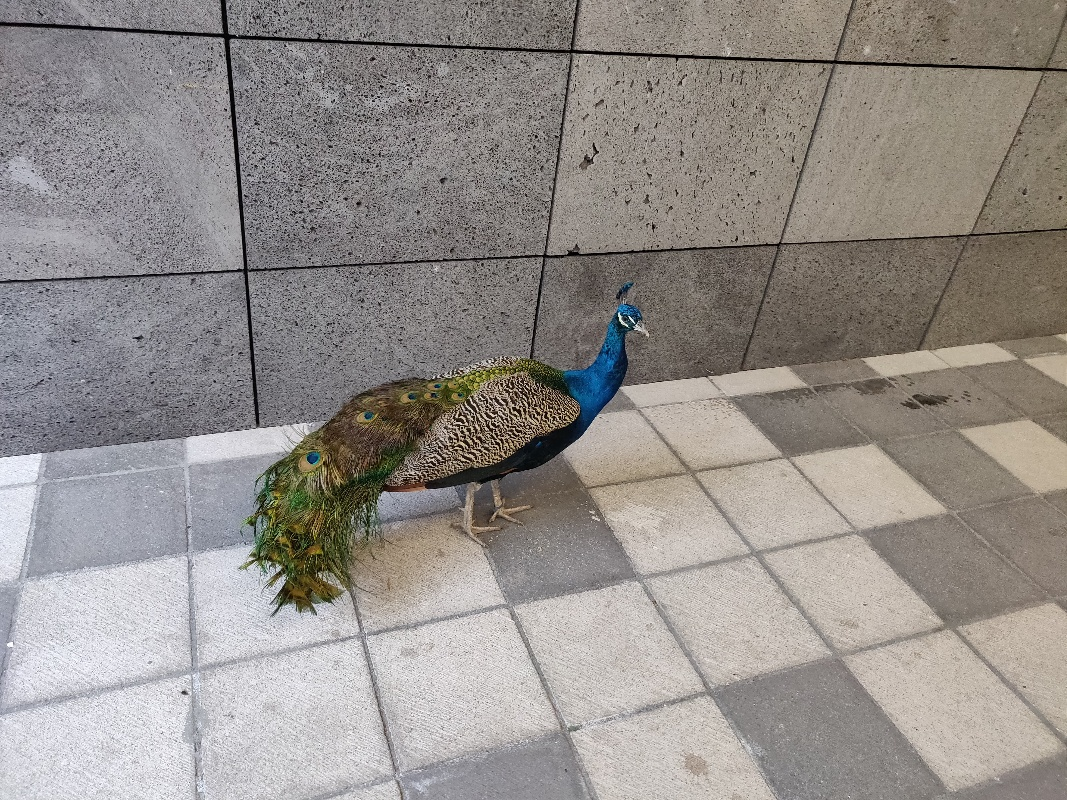pavoreal: (259, 276, 650, 576)
